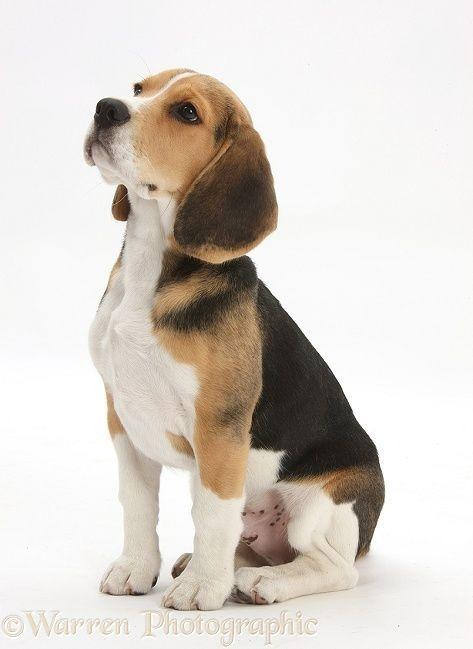puppy-dog: (86, 66, 390, 612)
